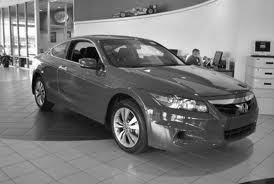car: (32, 36, 261, 154)
